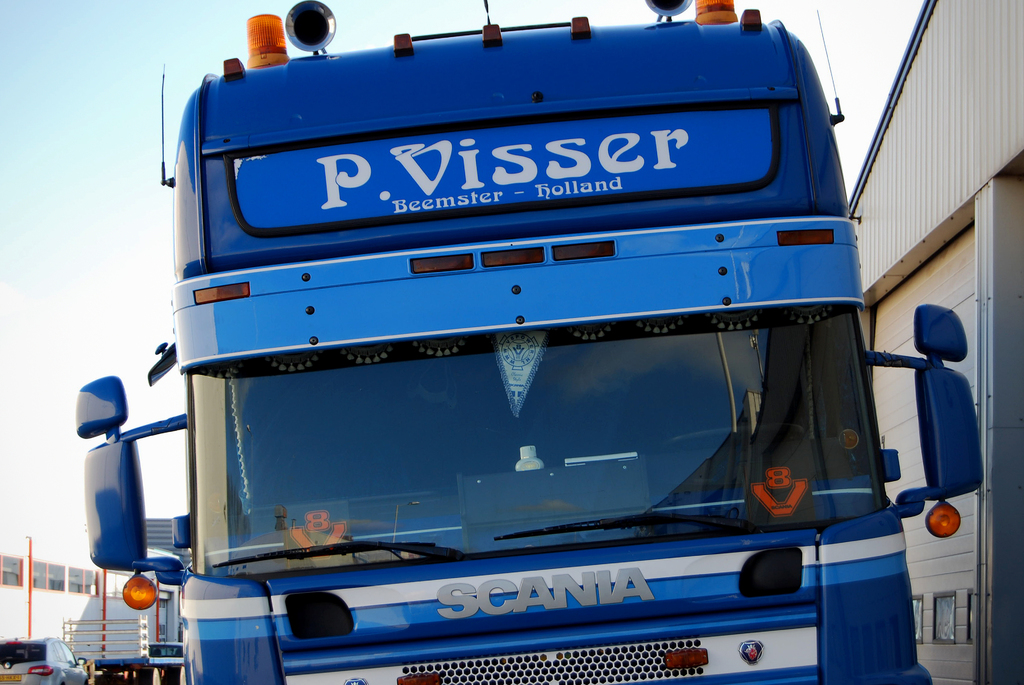Bus: (72, 0, 981, 684)
